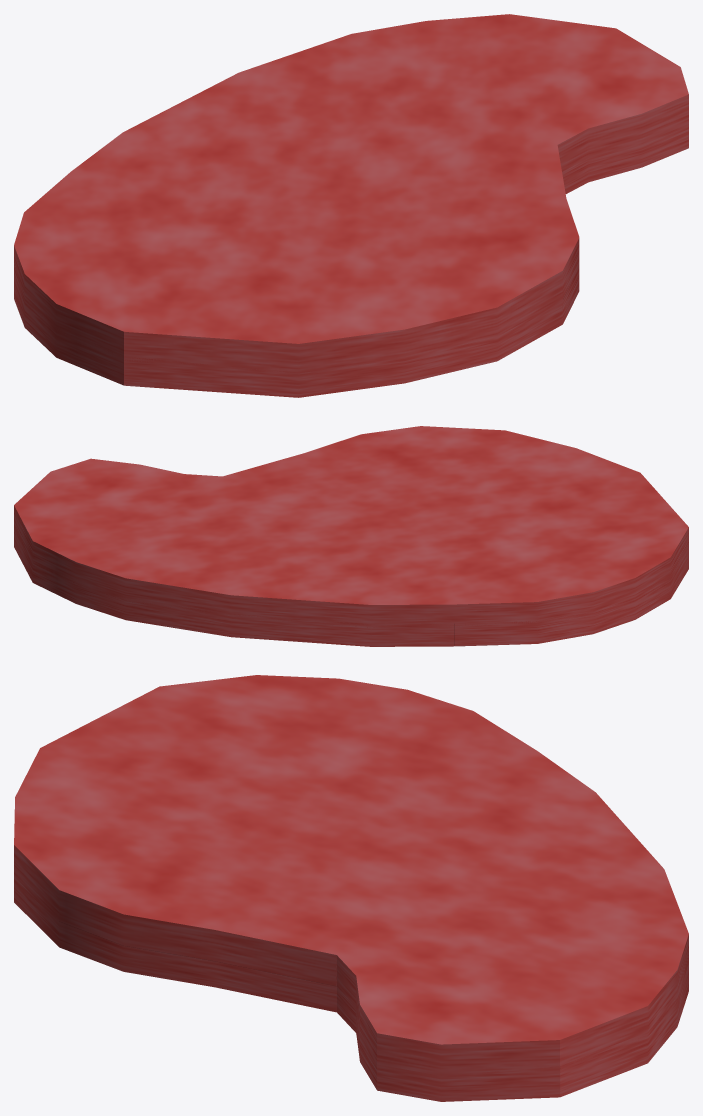
Rendered from MC_Steak.fbx.
The picture shows the model from 3 angles, top to bottom: view 1: azimuth 30°, elevation 25°; view 2: azimuth 150°, elevation 25°; view 3: azimuth 270°, elevation 25°; orthographic projection. The views are drawn at different scales.
Visible parts, largest first — view 1: TopStake, BottomStake; view 2: TopStake, BottomStake; view 3: TopStake, BottomStake.
Part boxes in pixels (x1,y1,x2,y2): TopStake: (14, 14, 688, 373); BottomStake: (14, 124, 688, 397); TopStake: (14, 426, 688, 627); BottomStake: (14, 524, 688, 646); TopStake: (14, 675, 688, 1075); BottomStake: (14, 876, 688, 1101).
Bounding box in the file's own units: 279 × 20.2 × 215.
